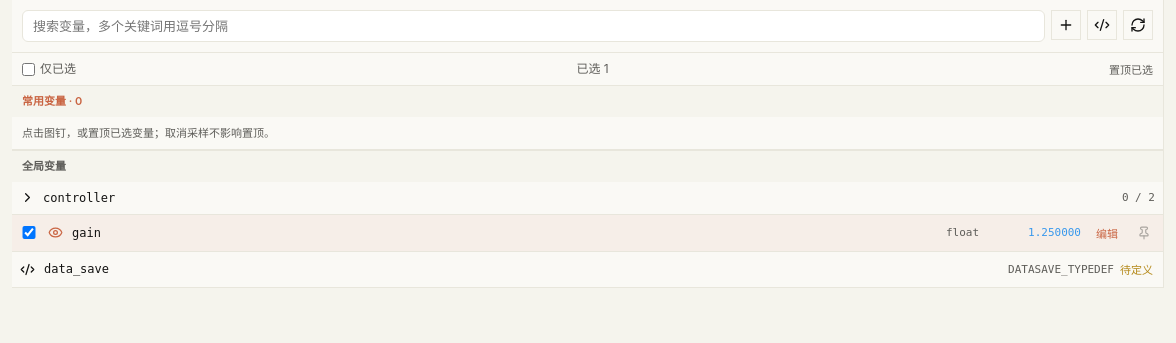
SymbolVariablePanel › writes a float from the variable row and shows the verified value
Click the button with test id "edit-gain".
click(1107, 232)  # box [1086,224,1128,240]
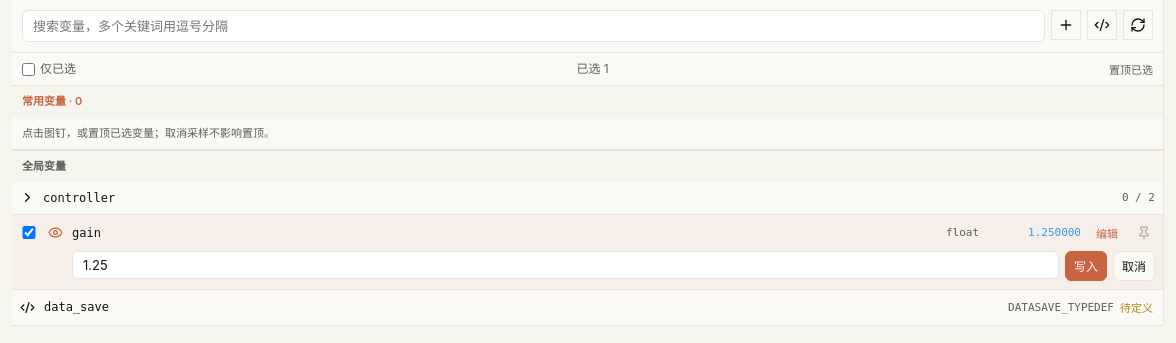
Replace the text in the field with test id "write-input-gain" with "1.3" at (566, 264), box [72,250,1059,278]
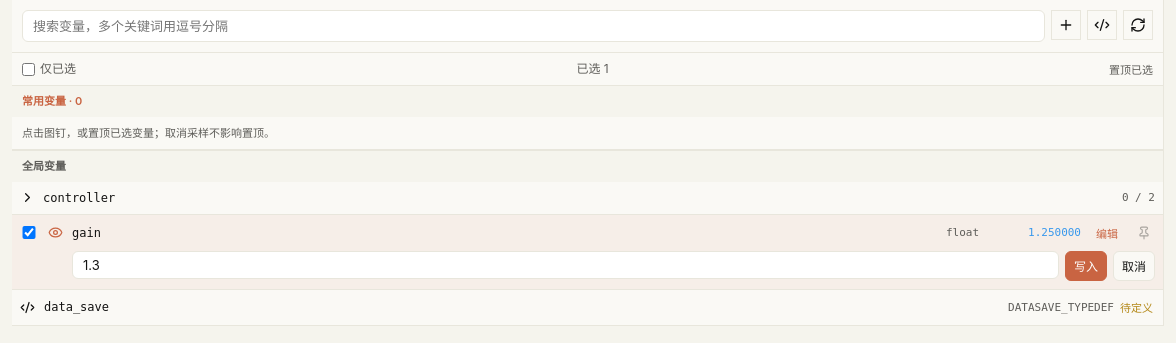
Click the button with test id "write-gain".
click(1086, 266)  # box [1065,250,1107,280]
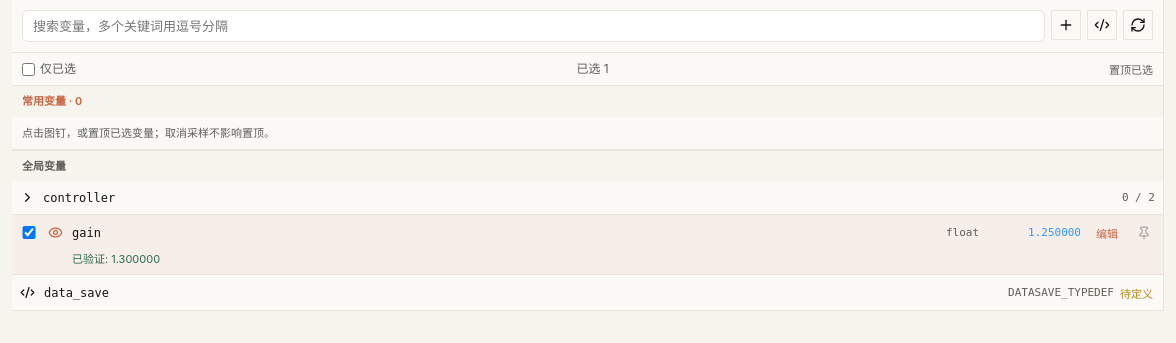
Expected: the text with test id "write-ok-gain" shows "1.3", [72,252,160,266]
